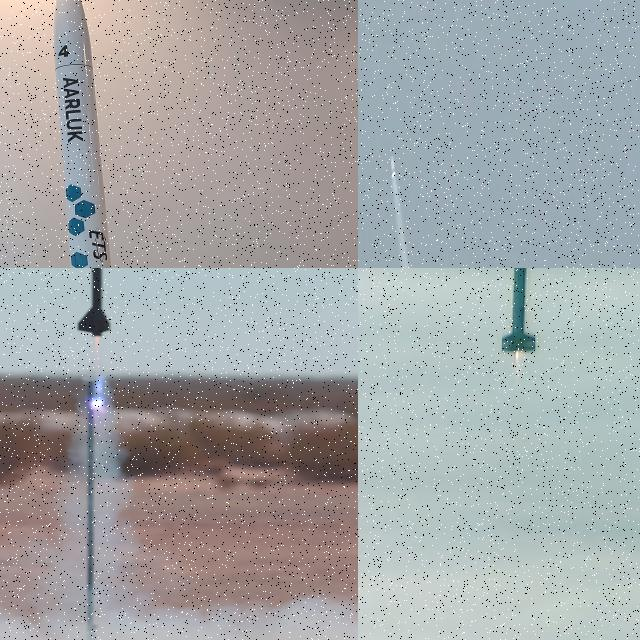Rocket: (53, 0, 112, 268), (499, 268, 536, 352), (76, 268, 112, 339), (391, 156, 396, 178)
